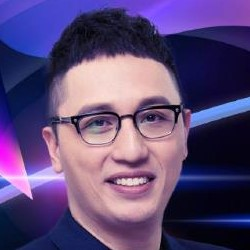unmask: (42, 82, 189, 224)
